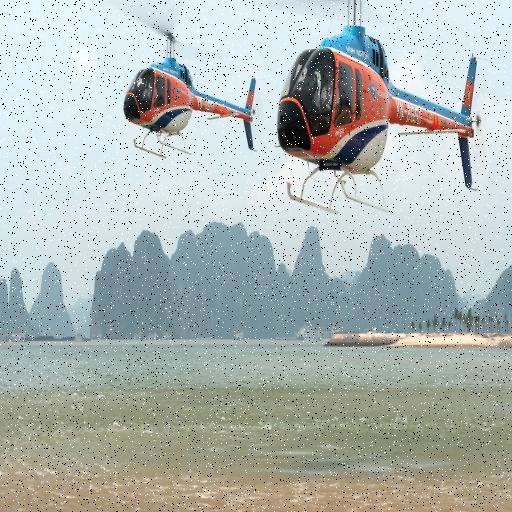helicopter: (271, 1, 489, 219), (107, 1, 259, 182)
